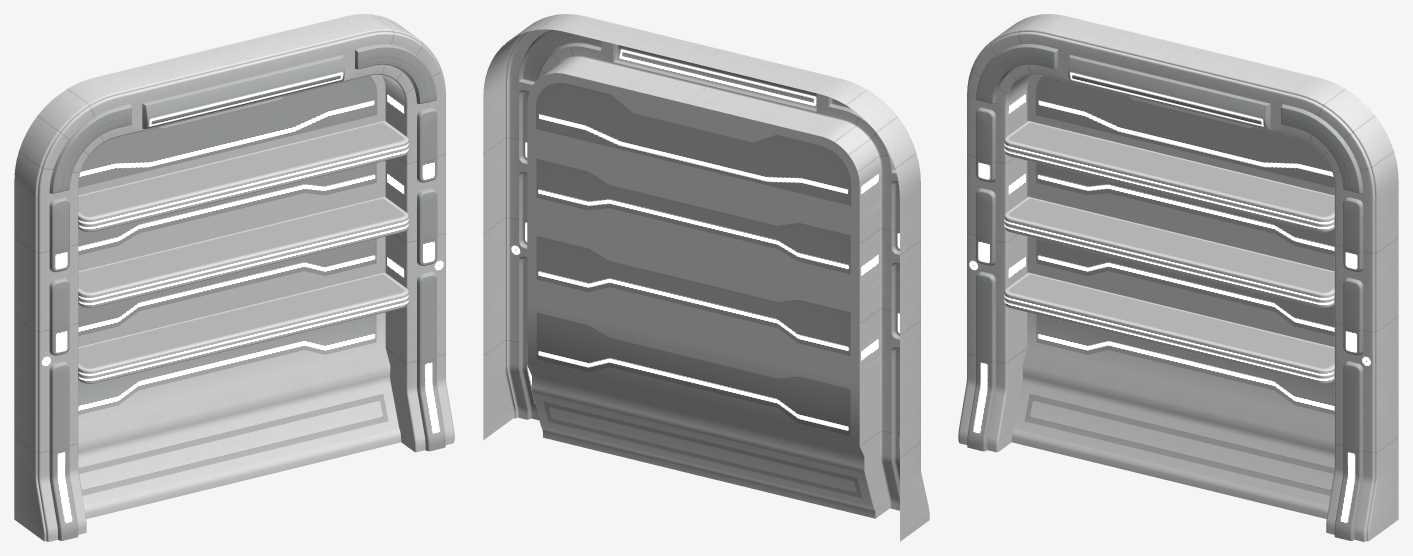
The model's file is BarShelves03.FBX.
3 views of the same model, side by side, from view 1: azimuth 30°, elevation 25°; view 2: azimuth 150°, elevation 25°; view 3: azimuth 330°, elevation 25° (orthographic).
Parts seen in each view (by area): view 1: BarShelves03; view 2: BarShelves03; view 3: BarShelves03.
Part boxes in pixels (x1=…): BarShelves03: x1=14, y1=14, x2=454, y2=541; BarShelves03: x1=483, y1=14, x2=929, y2=541; BarShelves03: x1=958, y1=14, x2=1398, y2=541.
Size of what is drawn, in the model's own units: 2.98 by 2.93 by 0.4263.
